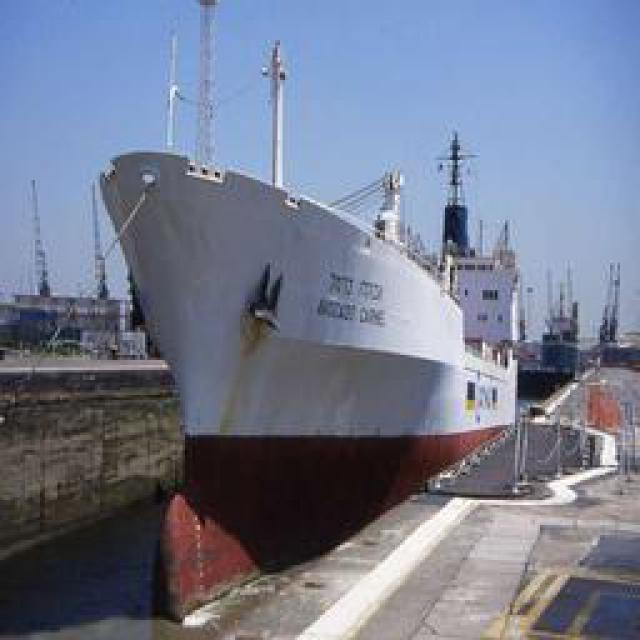Ship: (76, 140, 506, 578)
